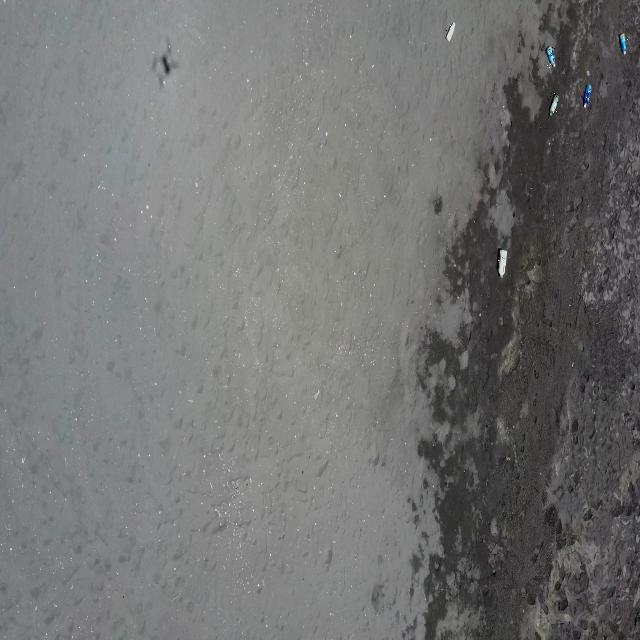plastic-bottle: (548, 90, 560, 118), (497, 248, 508, 278), (444, 20, 458, 43), (583, 83, 593, 110), (618, 34, 628, 56), (546, 46, 555, 68)
